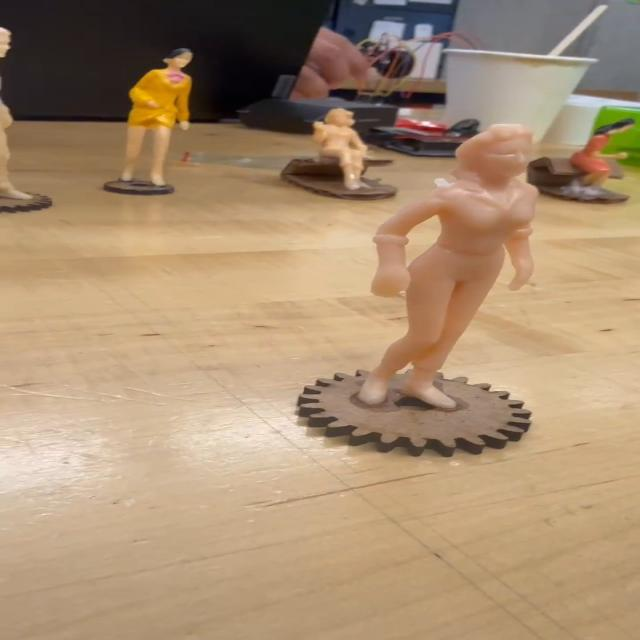Unauthorized: (354, 109, 549, 402)
